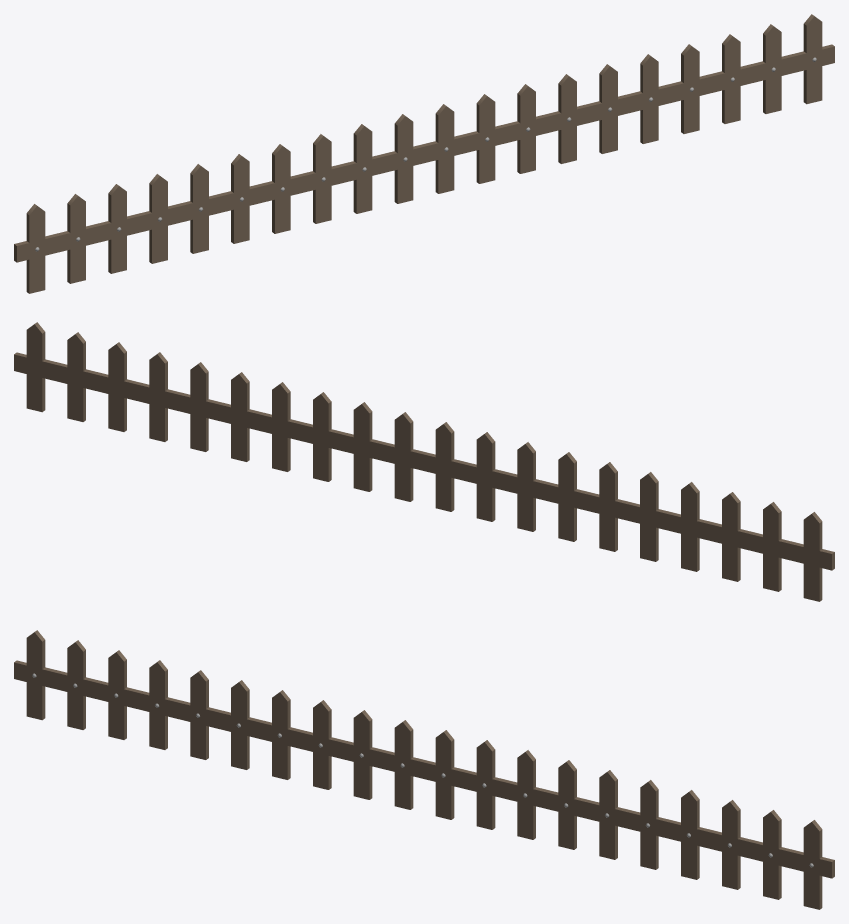
File: FenceMedium.fbx
3 views of the same model, one above another, from view 1: azimuth 30°, elevation 25°; view 2: azimuth 150°, elevation 25°; view 3: azimuth 330°, elevation 25° (orthographic).
Visible parts, largest first — view 1: Fence_Medium; view 2: Fence_Medium; view 3: Fence_Medium.
Part boxes in pixels (x1=…): Fence_Medium: x1=14, y1=14, x2=834, y2=293; Fence_Medium: x1=14, y1=322, x2=834, y2=601; Fence_Medium: x1=14, y1=630, x2=834, y2=909.
Size of the model in its own units: 20 by 2.02 by 0.1642.
